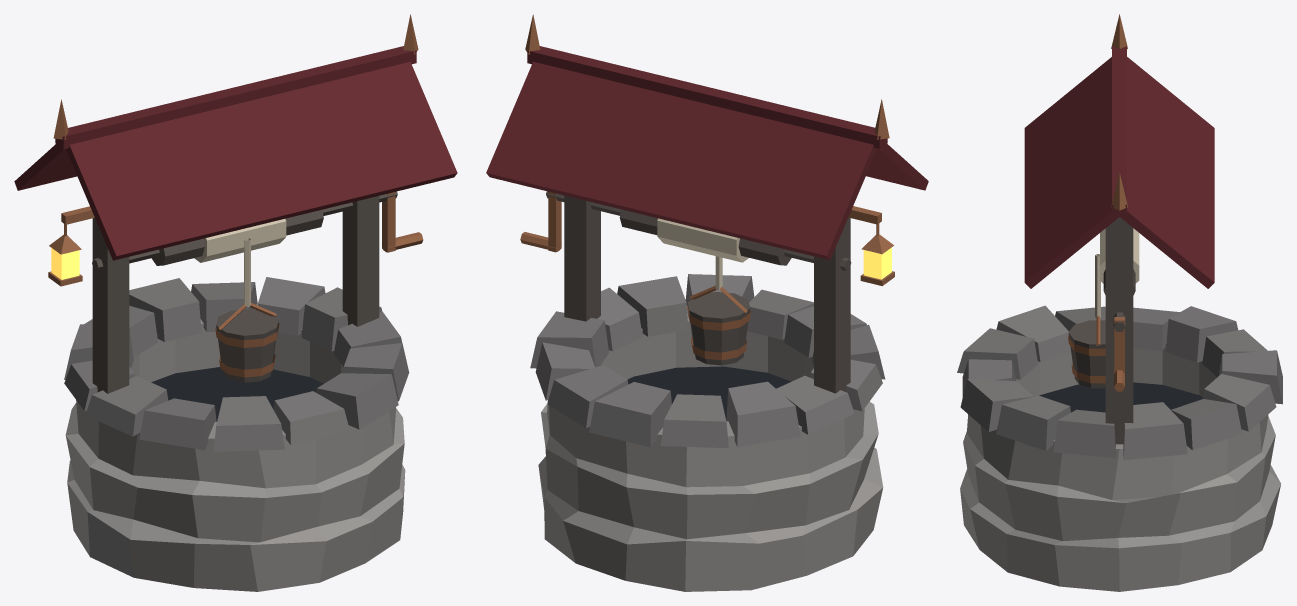
File: well.glb
3 views of the same model, side by side, from view 1: azimuth 30°, elevation 25°; view 2: azimuth 150°, elevation 25°; view 3: azimuth 270°, elevation 25° (orthographic). The views are drawn at different scales.
Parts seen in each view (by area): view 1: well_wall, roof, wall_cap, post_l, post_r, water, bucket, crank_axle, rope_coil, bucket_iron, crank_handle, lantern_frame (+2 smaller); view 2: well_wall, roof, wall_cap, post_l, post_r, water, bucket, crank_axle, rope_coil, bucket_iron, crank_handle, lantern_frame (+2 smaller); view 3: well_wall, roof, wall_cap, post_r, water, bucket, crank_handle, bucket_iron, finials, rope_coil.
Part boxes in pixels (x1,y1,x2,y2): well_wall: [65, 304, 405, 591]; roof: [14, 46, 457, 260]; wall_cap: [64, 277, 409, 451]; post_l: [92, 218, 129, 393]; post_r: [342, 196, 379, 326]; water: [151, 367, 323, 421]; bucket: [216, 309, 278, 382]; crank_axle: [92, 191, 397, 271]; rope_coil: [194, 219, 286, 262]; bucket_iron: [215, 303, 279, 377]; crank_handle: [382, 192, 423, 252]; lantern_frame: [48, 206, 94, 286]; well_wall: [538, 308, 883, 591]; roof: [486, 46, 928, 260]; wall_cap: [530, 274, 885, 448]; post_l: [814, 217, 850, 393]; post_r: [564, 195, 600, 321]; water: [627, 366, 791, 419]; bucket: [687, 291, 750, 365]; crank_axle: [546, 191, 851, 270]; rope_coil: [657, 218, 748, 262]; bucket_iron: [687, 285, 750, 360]; crank_handle: [520, 191, 561, 252]; lantern_frame: [848, 206, 894, 286]; well_wall: [960, 342, 1280, 591]; roof: [1024, 46, 1214, 288]; wall_cap: [957, 305, 1282, 460]; post_r: [1105, 227, 1133, 444]; water: [1039, 382, 1202, 412]; bucket: [1068, 320, 1105, 388]; crank_handle: [1114, 317, 1124, 391]; bucket_iron: [1068, 316, 1105, 383]; finials: [1111, 14, 1127, 210]; rope_coil: [1100, 228, 1139, 283].
Size of what is drawn, in the model's own units: 1.85 by 2.24 by 1.53.
